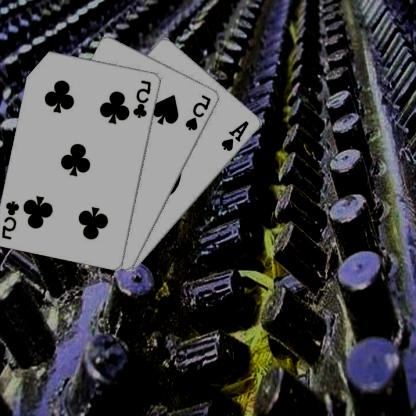5C: (132, 77, 154, 119), (1, 198, 22, 240)
5S: (185, 92, 214, 132)
AS: (221, 118, 252, 153)
